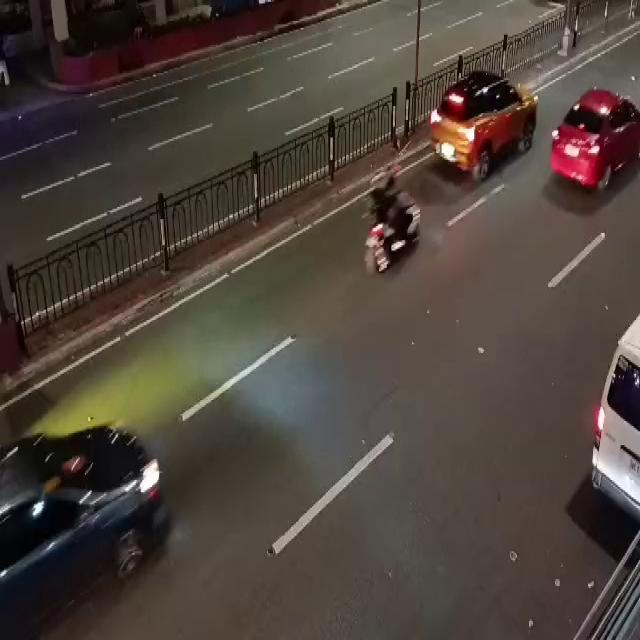car: (0, 425, 179, 601), (432, 63, 536, 182), (554, 83, 640, 200)
motorcycle: (366, 153, 422, 275)
